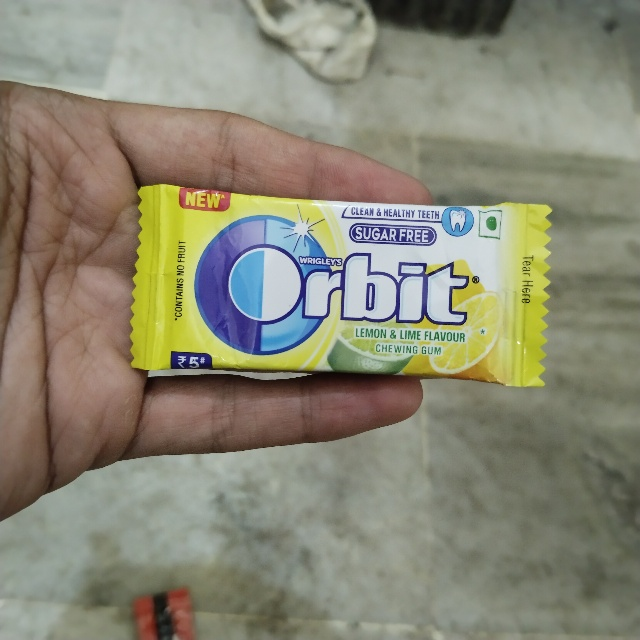Orbit: (148, 169, 552, 372)
